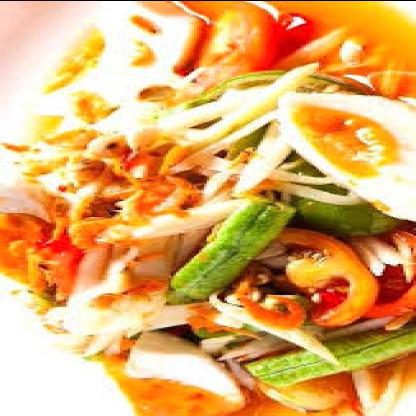Papaya Salad: (8, 0, 414, 414)
